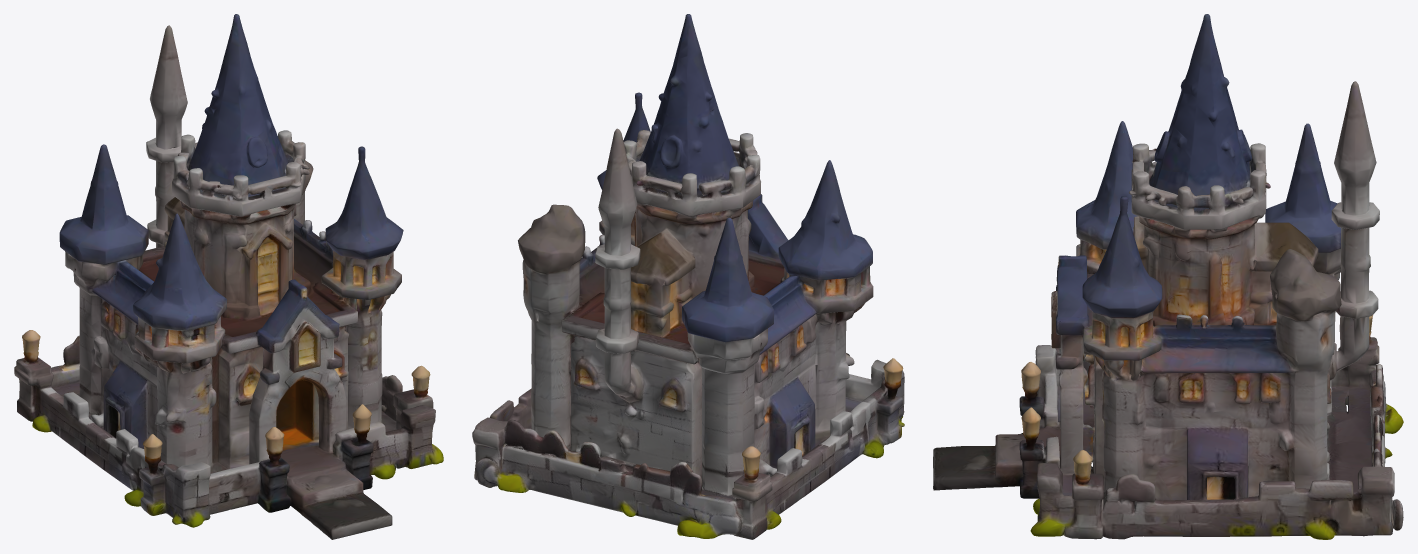
Rendered from castle.fbx.
3 renders of one model, left to right at view 1: azimuth 30°, elevation 25°; view 2: azimuth 150°, elevation 25°; view 3: azimuth 270°, elevation 25°, orthographic. The views are drawn at different scales.
Visible parts, largest first — view 1: tripo_node_898d726b; view 2: tripo_node_898d726b; view 3: tripo_node_898d726b.
Boxes of the visible parts, x1,y1,x2,y2 form: tripo_node_898d726b: (14,14,443,539); tripo_node_898d726b: (472,14,904,539); tripo_node_898d726b: (933,14,1403,539).
Size of the model in its own units: 65.32 by 86.05 by 99.98.
1 material, 1 textured.
